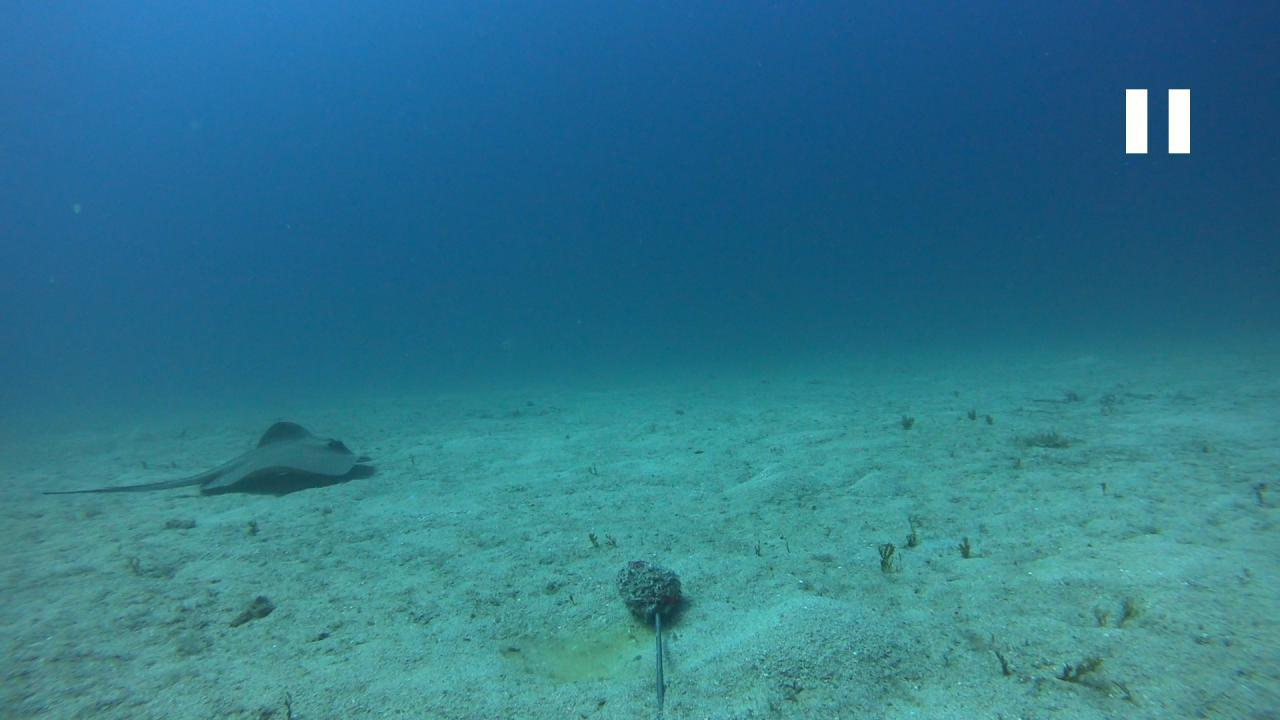dasyatis: (39, 420, 374, 495)
